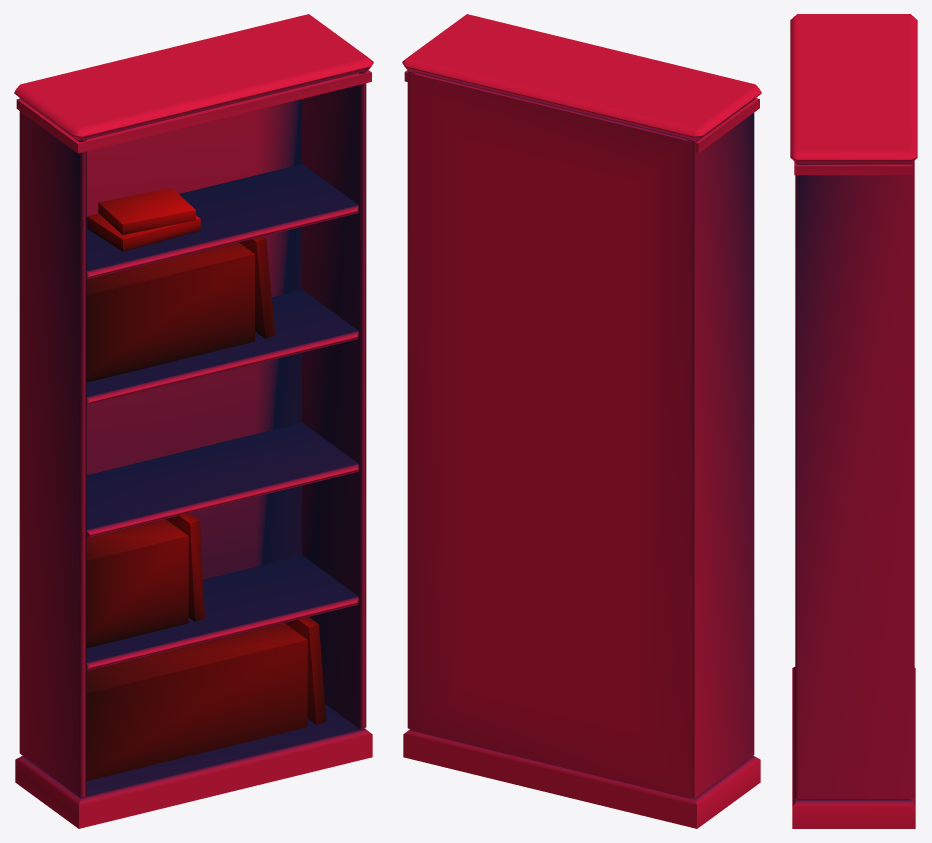
Rendered from CI_Living_Bookcase_Tall_LOD1.glb.
The picture shows the model from 3 angles, left to right: view 1: azimuth 30°, elevation 25°; view 2: azimuth 150°, elevation 25°; view 3: azimuth 270°, elevation 25°; orthographic projection. The views are drawn at different scales.
Parts seen in each view (by area): view 1: CI_Living_Bookcase_Tall_LOD1; view 2: CI_Living_Bookcase_Tall_LOD1; view 3: CI_Living_Bookcase_Tall_LOD1.
Boxes of the visible parts, x1,y1,x2,y2 form: CI_Living_Bookcase_Tall_LOD1: (14, 14, 373, 828); CI_Living_Bookcase_Tall_LOD1: (402, 14, 761, 828); CI_Living_Bookcase_Tall_LOD1: (790, 14, 917, 828).
Bounding box in the file's own units: 0.9 × 2 × 0.34.
